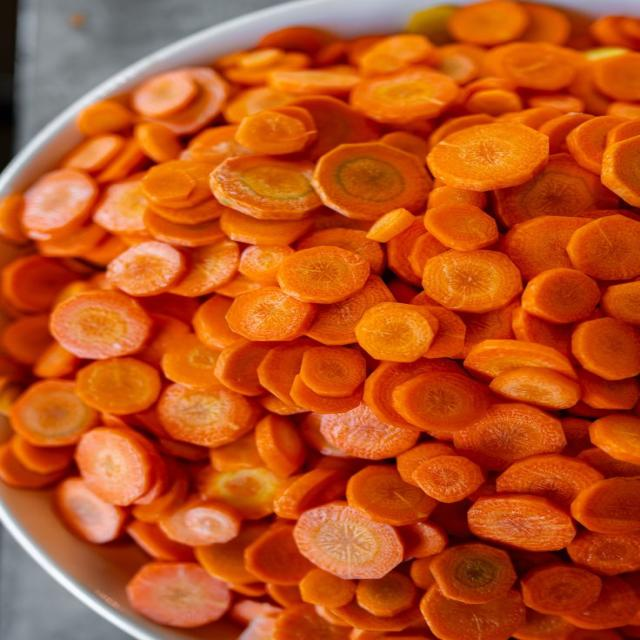carrot: (494, 153, 617, 227), (314, 143, 430, 220), (294, 503, 403, 579), (428, 123, 548, 190), (454, 403, 566, 470), (211, 156, 320, 220), (50, 291, 152, 359), (188, 86, 291, 153), (127, 562, 230, 628), (364, 359, 460, 428), (501, 206, 588, 280), (75, 427, 157, 505), (158, 384, 259, 447), (351, 66, 459, 124), (423, 250, 521, 313), (468, 494, 575, 551), (10, 379, 98, 446), (496, 454, 602, 508), (420, 585, 525, 639), (393, 371, 489, 430), (320, 404, 419, 460), (147, 67, 228, 135), (294, 96, 376, 161), (21, 169, 97, 239), (430, 543, 516, 604), (278, 247, 370, 304), (347, 466, 435, 525), (355, 303, 439, 362), (226, 287, 315, 340), (485, 42, 581, 91), (76, 358, 160, 414), (55, 478, 126, 543), (194, 523, 267, 585), (464, 340, 576, 380), (0, 255, 77, 313), (296, 226, 385, 275), (107, 241, 186, 296), (245, 523, 313, 585), (521, 563, 602, 615), (572, 318, 639, 380), (169, 238, 239, 297), (200, 468, 280, 519), (387, 217, 446, 286), (257, 339, 318, 405), (158, 497, 240, 546), (565, 577, 639, 630), (235, 106, 316, 154), (490, 367, 580, 410), (571, 477, 639, 533), (448, 0, 530, 46), (274, 469, 347, 519), (220, 208, 313, 246), (425, 204, 498, 251), (567, 116, 626, 174), (414, 455, 485, 502), (140, 161, 211, 208), (214, 339, 273, 395), (300, 346, 366, 396), (132, 465, 188, 523), (458, 302, 518, 356), (358, 34, 434, 76), (132, 70, 198, 118), (567, 531, 639, 575), (255, 415, 306, 477), (180, 125, 253, 168), (539, 97, 594, 154), (93, 175, 146, 234), (0, 442, 66, 489), (144, 209, 224, 247), (0, 314, 55, 366), (291, 374, 362, 414), (356, 571, 417, 617), (333, 602, 423, 633), (136, 314, 189, 366), (269, 66, 360, 96), (127, 520, 193, 561), (270, 605, 349, 639), (601, 136, 639, 205), (193, 295, 239, 350), (589, 414, 639, 464), (396, 442, 454, 485), (61, 134, 124, 173), (11, 435, 73, 474), (592, 52, 640, 102), (580, 370, 639, 410), (37, 223, 106, 257), (149, 195, 227, 225), (96, 139, 146, 185), (425, 304, 466, 358), (428, 114, 493, 148), (578, 442, 639, 478), (568, 65, 611, 116), (300, 569, 356, 608), (239, 246, 293, 286), (209, 432, 263, 471), (76, 100, 134, 136), (435, 43, 485, 84), (405, 6, 457, 45), (513, 608, 576, 639), (134, 123, 182, 163), (399, 520, 448, 559), (140, 293, 199, 324), (430, 499, 472, 538), (367, 208, 414, 242), (601, 282, 639, 324), (380, 130, 429, 159), (497, 107, 561, 129), (428, 186, 487, 209), (0, 194, 27, 244), (589, 16, 631, 48), (230, 599, 282, 624), (509, 550, 558, 576), (561, 417, 592, 455), (159, 437, 206, 462), (216, 273, 263, 298), (347, 34, 385, 64), (528, 94, 584, 113), (258, 393, 304, 415), (606, 119, 639, 146), (266, 584, 302, 607), (389, 277, 419, 304), (410, 557, 434, 589), (607, 101, 639, 119), (230, 582, 266, 597)
